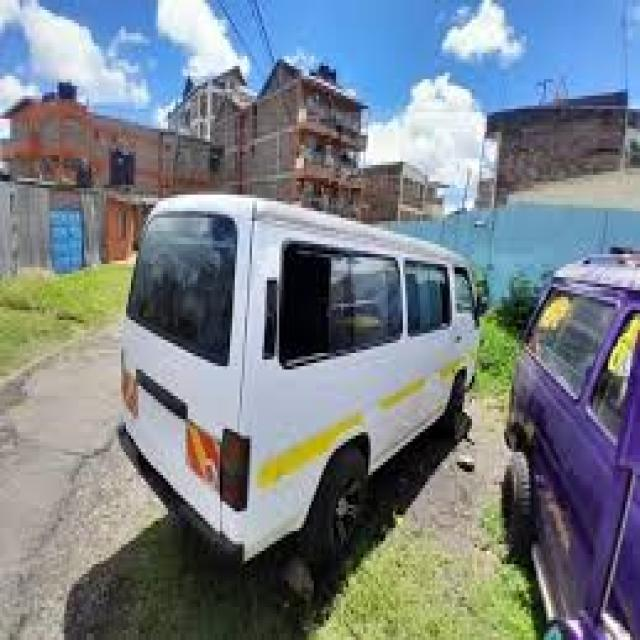matatu: (69, 135, 505, 592)
